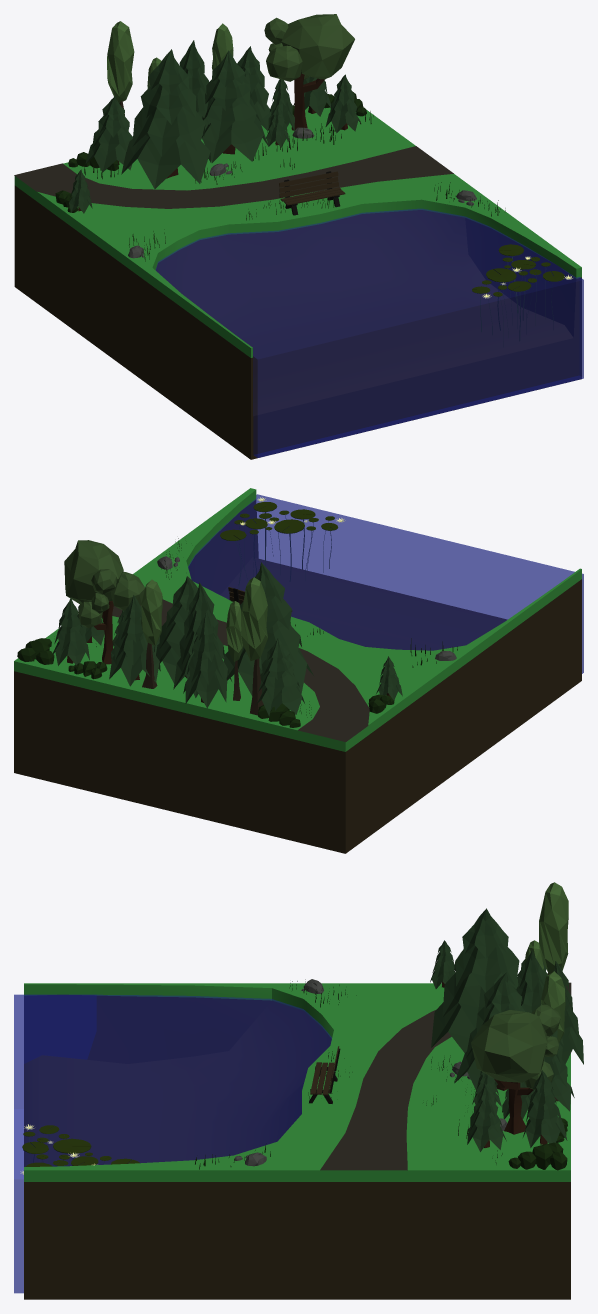
Rendered from lp_pond.fbx.
3 renders of one model, top to bottom at view 1: azimuth 30°, elevation 25°; view 2: azimuth 150°, elevation 25°; view 3: azimuth 270°, elevation 25°, orthographic. The views are drawn at different scales.
Parts seen in each view (by area): view 1: grass, lake, path7, Cone010, GeoSphere018, Cone014, Cone011, GeoSphere019, Box026, Cone012, Cone013, Cone016 (+5 smaller); view 2: grass, lake, GeoSphere018, path7, Cone010, Cone015, GeoSphere019, Cone012, Cone011, Cone014, Cone013, GeoSphere020 (+6 smaller); view 3: grass, lake, path7, GeoSphere018, Cone010, GeoSphere019, Cone019, Cone014, Cone016, Cone013, Cone015, GeoSphere033 (+4 smaller).
Boxes of the visible parts, bbox=[...] form: grass: bbox=[14, 106, 581, 459]; lake: bbox=[155, 208, 583, 457]; path7: bbox=[14, 146, 453, 208]; Cone010: bbox=[121, 49, 211, 189]; GeoSphere018: bbox=[264, 14, 354, 130]; Cone014: bbox=[201, 50, 268, 162]; Cone011: bbox=[85, 95, 132, 172]; GeoSphere019: bbox=[107, 21, 134, 115]; Box026: bbox=[279, 171, 345, 215]; Cone012: bbox=[237, 46, 271, 130]; Cone013: bbox=[179, 40, 209, 139]; Cone016: bbox=[325, 74, 361, 133]; grass: bbox=[14, 488, 581, 853]; lake: bbox=[188, 494, 583, 673]; GeoSphere018: bbox=[64, 540, 144, 664]; path7: bbox=[112, 599, 369, 741]; Cone010: bbox=[224, 562, 313, 695]; Cone015: bbox=[183, 611, 227, 708]; GeoSphere019: bbox=[241, 577, 267, 715]; Cone012: bbox=[109, 595, 160, 686]; Cone011: bbox=[255, 638, 304, 716]; Cone014: bbox=[156, 576, 224, 685]; Cone013: bbox=[173, 582, 231, 697]; GeoSphere020: bbox=[141, 579, 162, 688]; grass: bbox=[24, 983, 570, 1299]; lake: bbox=[14, 994, 331, 1293]; path7: bbox=[320, 982, 571, 1170]; GeoSphere018: bbox=[471, 1004, 560, 1134]; Cone010: bbox=[431, 908, 519, 1052]; GeoSphere019: bbox=[539, 882, 568, 974]; Cone019: bbox=[523, 1070, 567, 1147]; Cone014: bbox=[454, 972, 525, 1090]; Cone016: bbox=[467, 1083, 506, 1151]; Cone013: bbox=[516, 950, 546, 1013]; Cone015: bbox=[553, 961, 583, 1064]; GeoSphere033: bbox=[508, 1142, 567, 1170].
Size of the model in its own units: 342 by 242 by 438.
